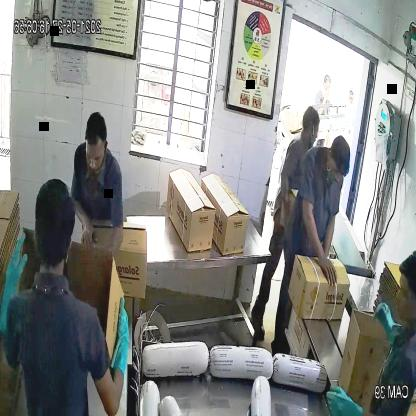no_goggles: (82, 145, 108, 167)
